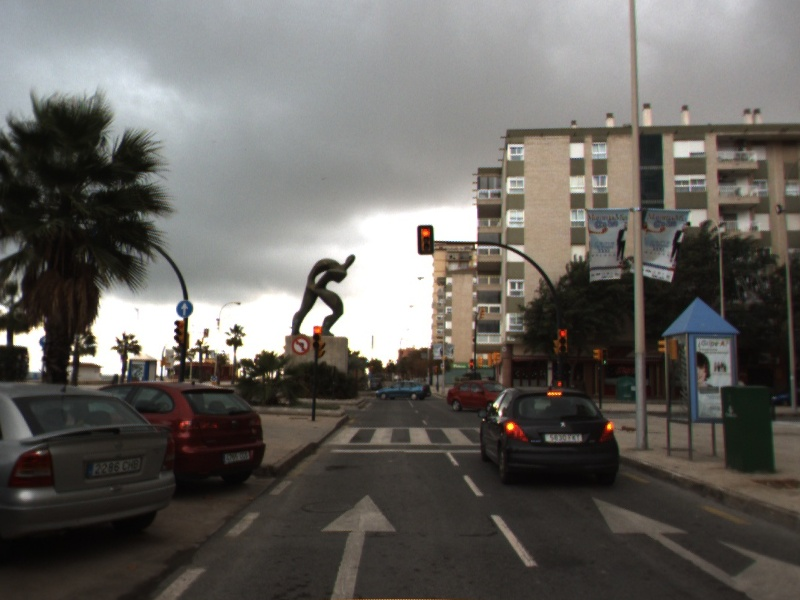STRAIGHT: (318, 493, 399, 600)
STRAIGHT_RIGHT: (588, 494, 800, 599)
